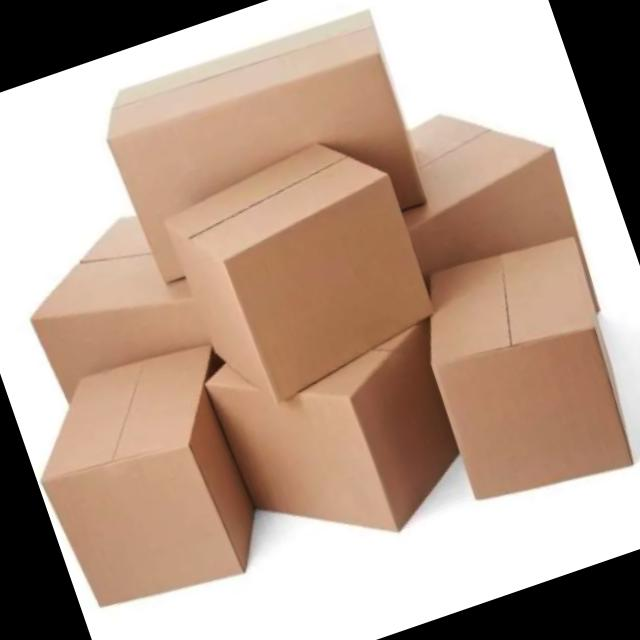Kardus: (0, 0, 640, 640), (90, 3, 435, 295), (154, 122, 448, 420), (10, 331, 284, 626), (397, 220, 640, 516)
